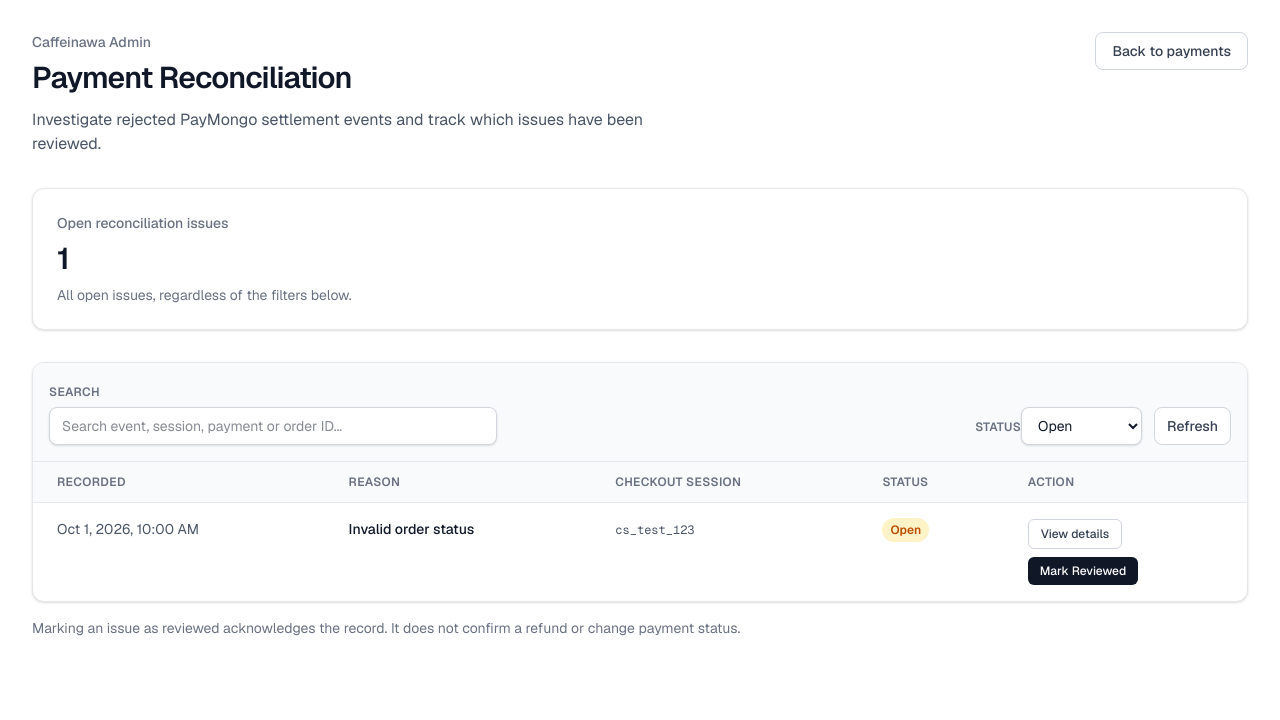
AdminPaymentReconciliationPage › shows a review-action error
expect the text "cs_test_123" is shown: met, box [615,522,694,538]
Click the button "Mark Reviewed" at (1083, 571), box [1028,557,1138,585]
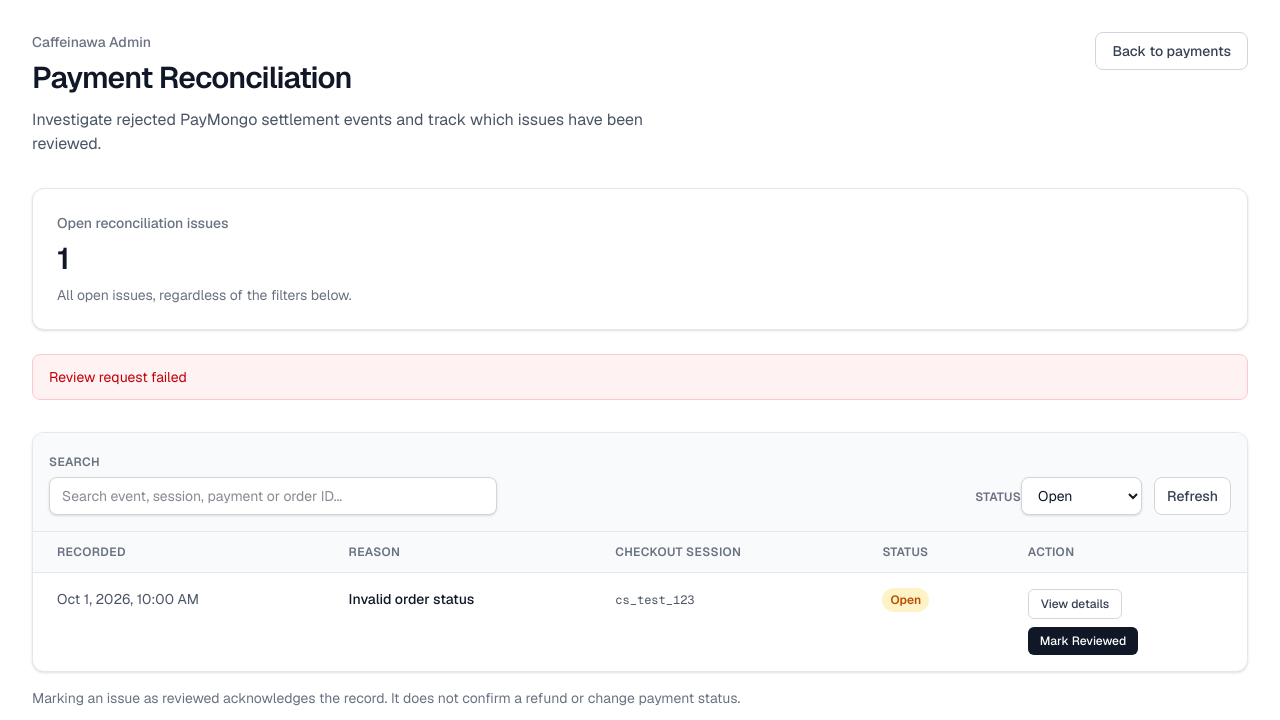
expect the message reads "Review request failed": met, box [49,368,187,386]
